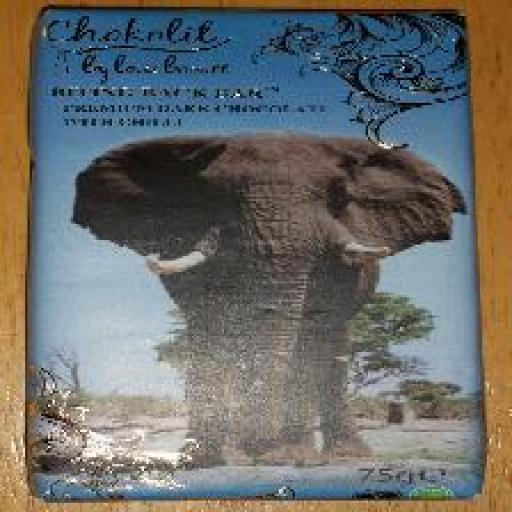Elephant: (71, 128, 466, 466)
